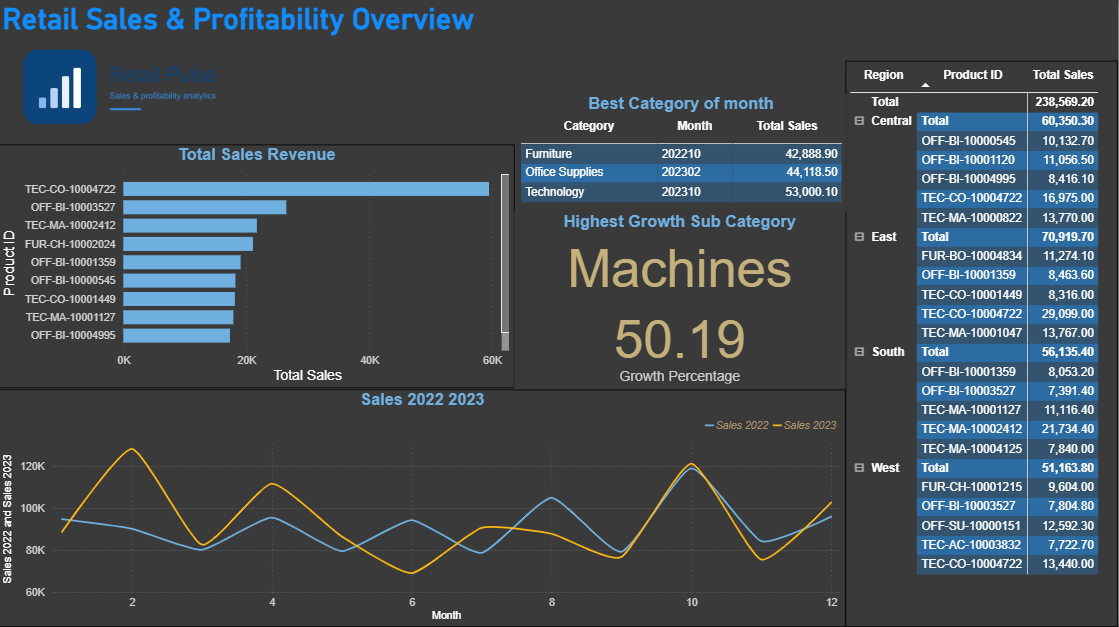

This screenshot's page, from the dashboard's own definition file:
{"tool":"powerbi","page":{"name":"Page 1","canvas":[1280,720],"ordinal":0},"visuals":[{"type":"clusteredBarChart","title":"Total Sales Revenue","fields":{"Category":["top_10_products.product_id"],"Y":["Sum(top_10_products.total_sales_revenue)"]},"box":[0,168.6,590,278.6],"z":0},{"type":"pivotTable","fields":{"Rows":["top_5_products_per_region.region","top_5_products_per_region.product_id"],"Values":["Sum(top_5_products_per_region.total_sales)"]},"box":[968.6,72.9,311.4,647.1],"z":1000},{"type":"lineChart","title":"Sales 2022 2023","fields":{"Category":["month_over_month_growth.order_month"],"Y":["Sum(month_over_month_growth.sales_2022)","Sum(month_over_month_growth.sales_2023)"]},"box":[0,448.6,968.6,271.4],"z":1001},{"type":"tableEx","title":"Best Category of month","fields":{"Values":["best_month_per_category.category","best_month_per_category.order_month","best_month_per_category.total_sales"]},"box":[591.4,111.4,378.6,134.3],"z":1002},{"type":"card","title":"Highest Growth Sub Category","fields":{"Values":["Min(highest_growth_sub_category.sub_category)"]},"box":[590,245.7,378.6,98.6],"z":1003},{"type":"actionButton","box":[0,0,100,40],"z":1004},{"type":"card","fields":{"Values":["Sum(highest_growth_sub_category.growth_percentage)"]},"box":[590,344.3,378.6,102.9],"z":1005},{"type":"textbox","box":[0,0,552.9,62.9],"z":1006},{"type":"image","box":[0,37.1,417.1,131.4],"z":1007}]}

Visuals, with their boxes in screenshot pixels (x1, y1, x2, y2), scaled from the page's 1280x720 canvas onto the 1119x627 screenshot:
"Total Sales Revenue" clusteredBarChart: detection(0, 147, 516, 389)
pivotTable - top_5_products_per_region.region x top_5_products_per_region.product_id: detection(847, 63, 1118, 626)
"Sales 2022 2023" lineChart: detection(0, 391, 847, 626)
"Best Category of month" tableEx: detection(517, 97, 848, 214)
"Highest Growth Sub Category" card: detection(516, 214, 847, 300)
actionButton: detection(0, 0, 87, 35)
card - Sum(highest_growth_sub_category.growth_percentage): detection(516, 300, 847, 389)
textbox: detection(0, 0, 483, 55)
image: detection(0, 32, 365, 147)
